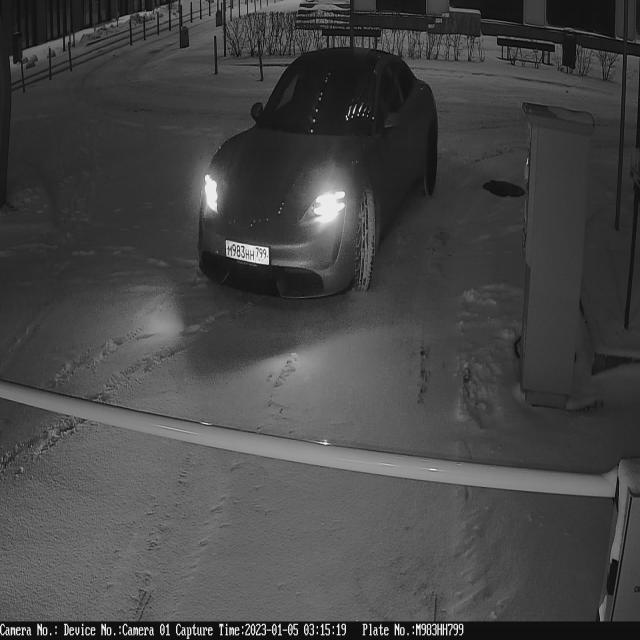car-plate-numbers: (225, 236, 272, 270)
